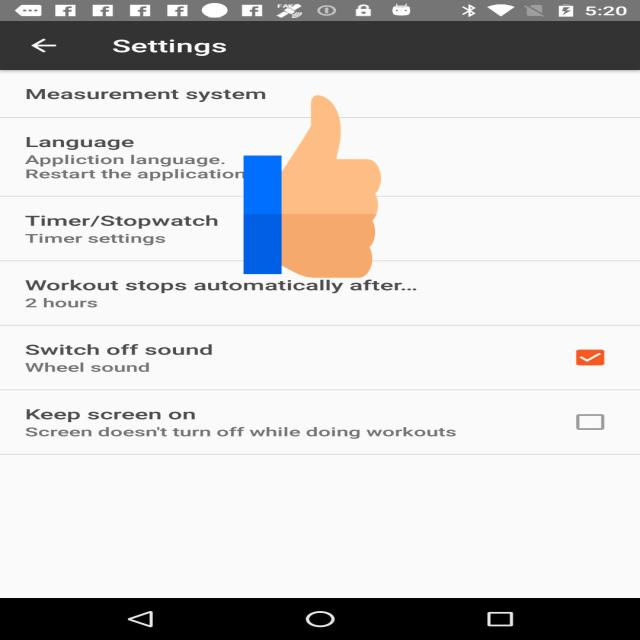privacy zuckering: (244, 91, 381, 282)
